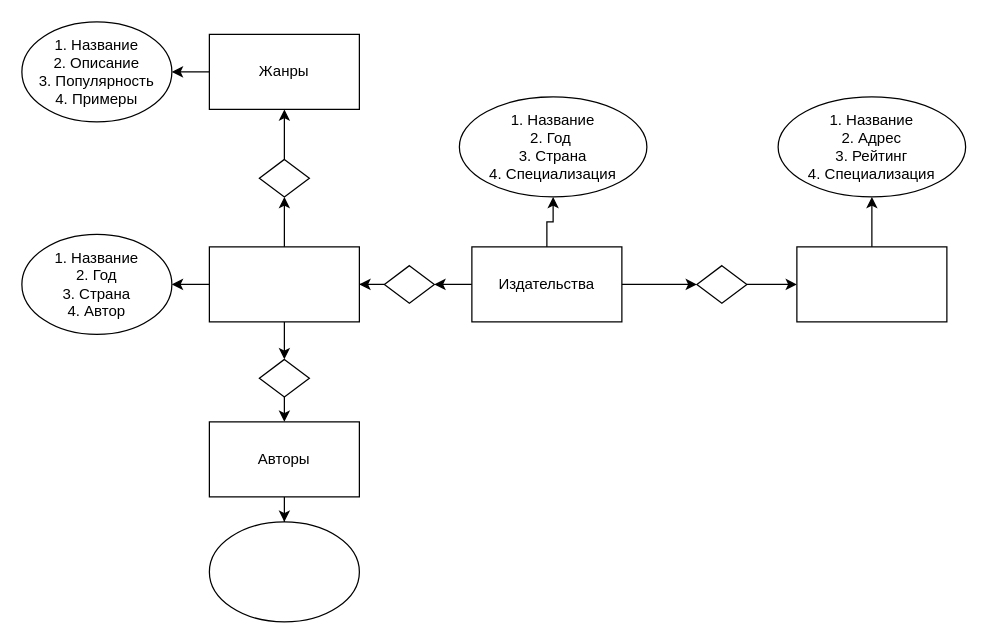
Some shapes in this 988 by 644 pixel diagram are drawn without their labels. The centre of each missing label's shape, as x and y in pixels:
1. Имя 2. Дата рождения 3. Страна 4. Биография: the point at 283,571
Книги: the point at 283,284
Магазины: the point at 871,284
